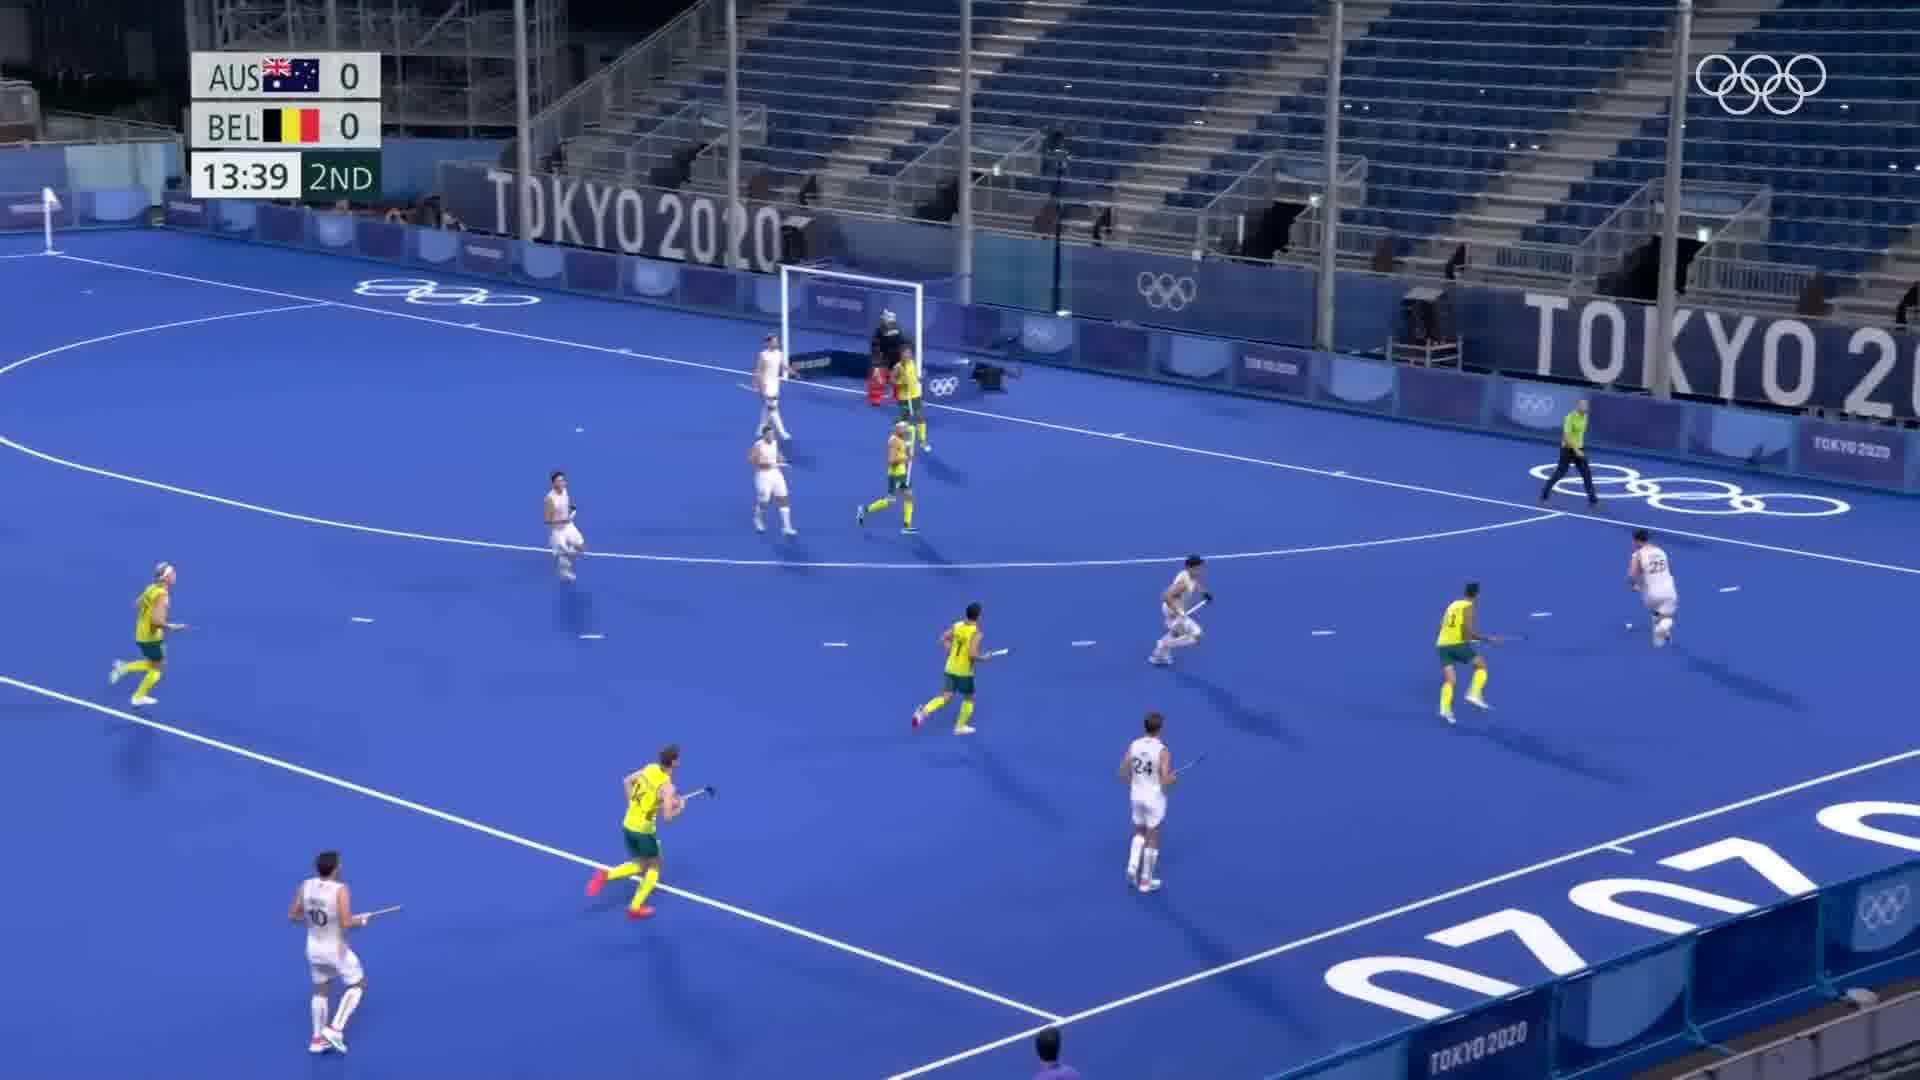ball: (1618, 618, 1638, 633)
